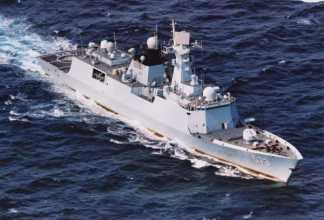warship: (36, 21, 305, 181)
